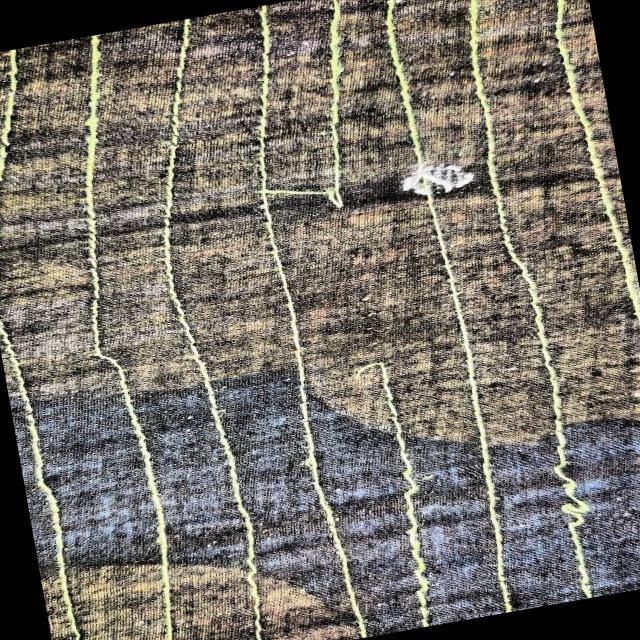gray stitch: (264, 120, 542, 432), (501, 435, 640, 571)
